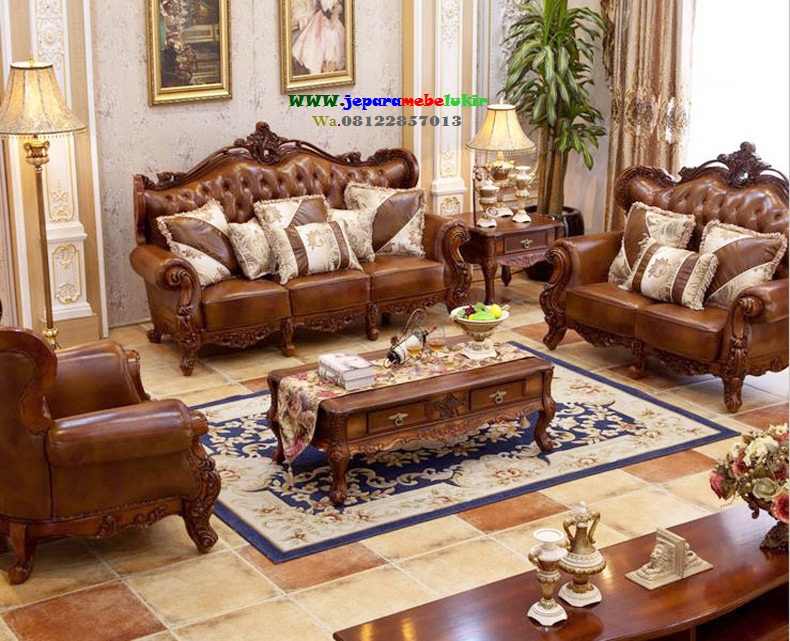Carving Chair: (128, 129, 492, 328), (570, 161, 790, 390)
Carving Table: (268, 338, 559, 469)
